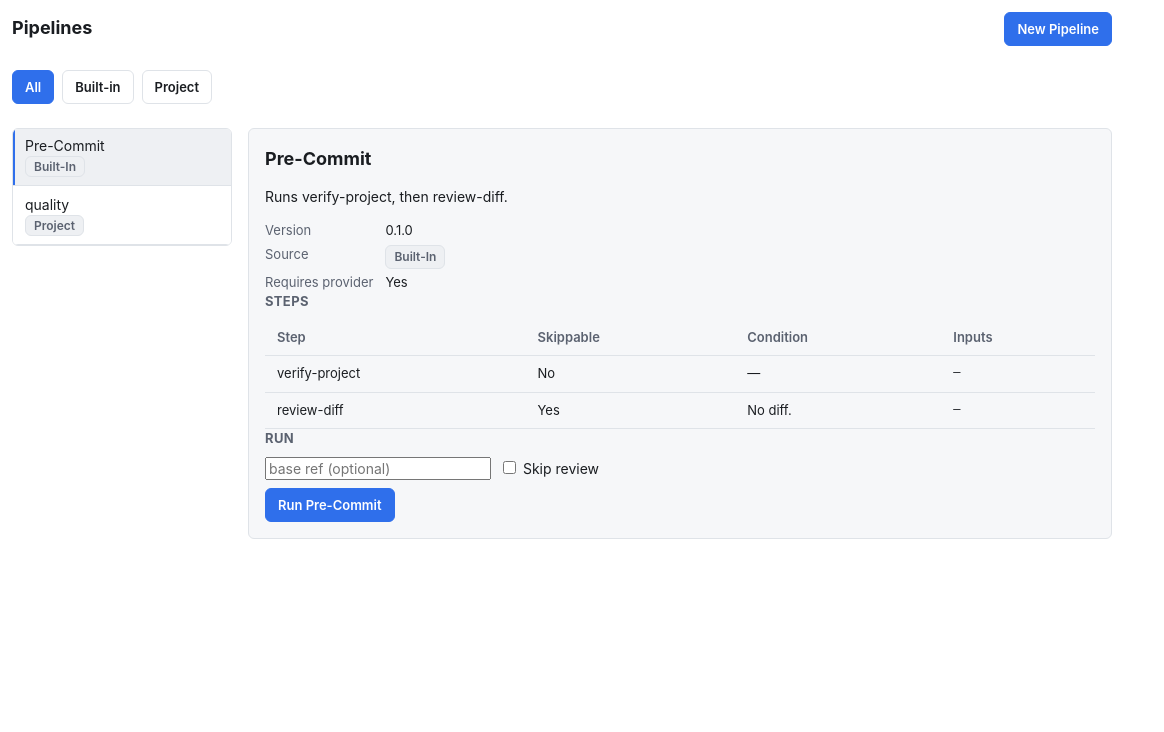
Scenario: PipelinesPage › runs a project-local pipeline through the same generic command endpoint
Click the button "quality Project".
click(122, 216)  # box [13, 188, 231, 245]
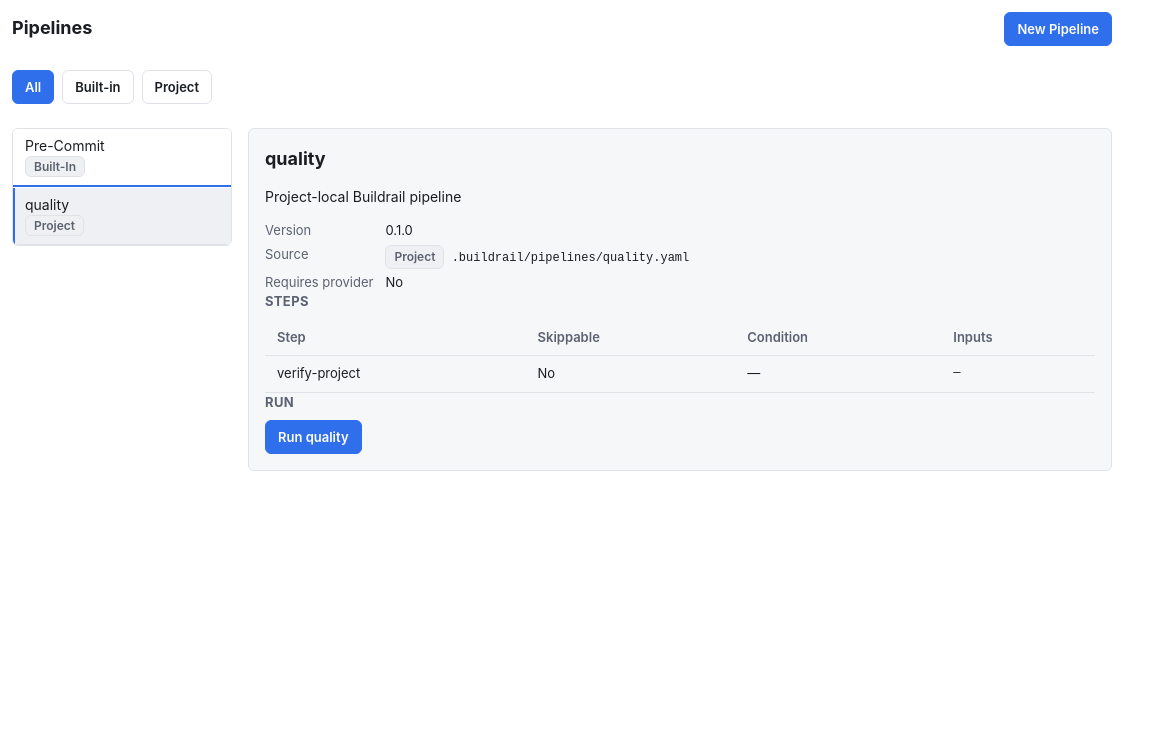
Click the button "Run quality".
click(313, 437)  # box [265, 420, 362, 454]
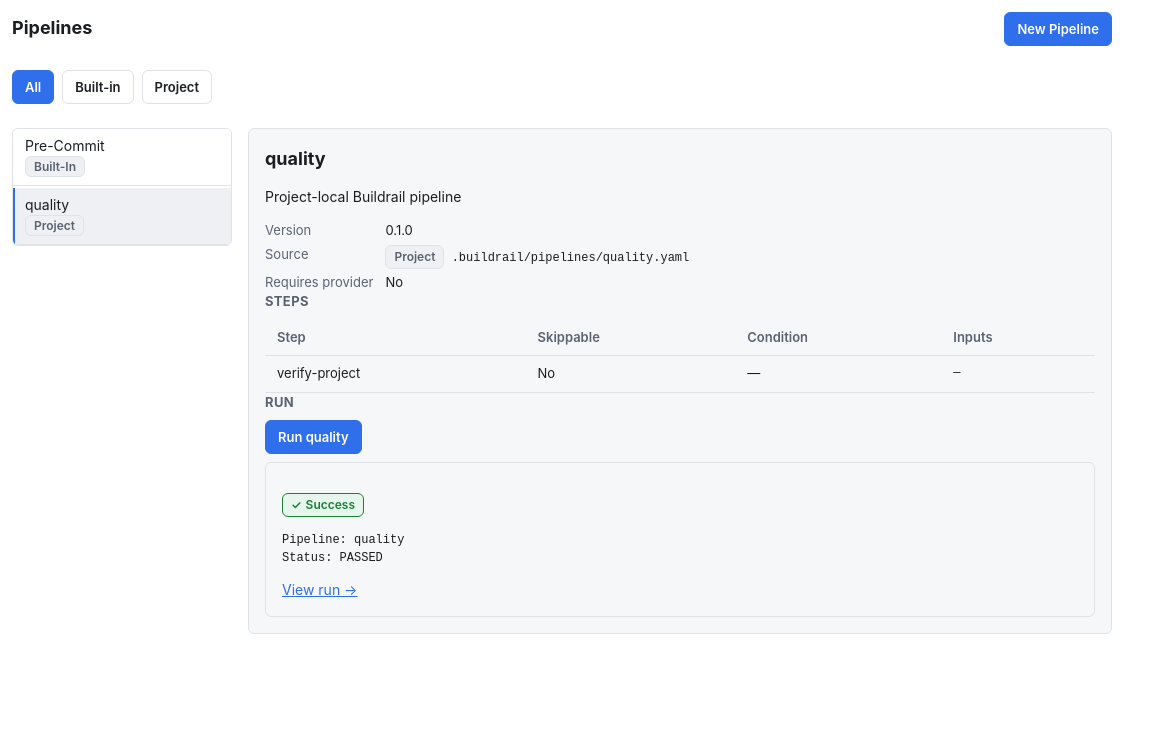
Expected: the text "Pipeline: quality Status: PASSED" is shown, [282, 533, 404, 565]
